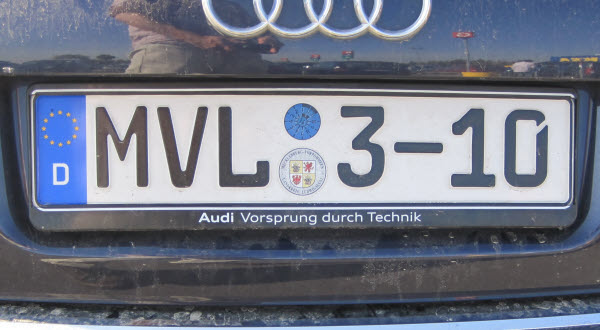license_plate: (28, 88, 575, 212)
